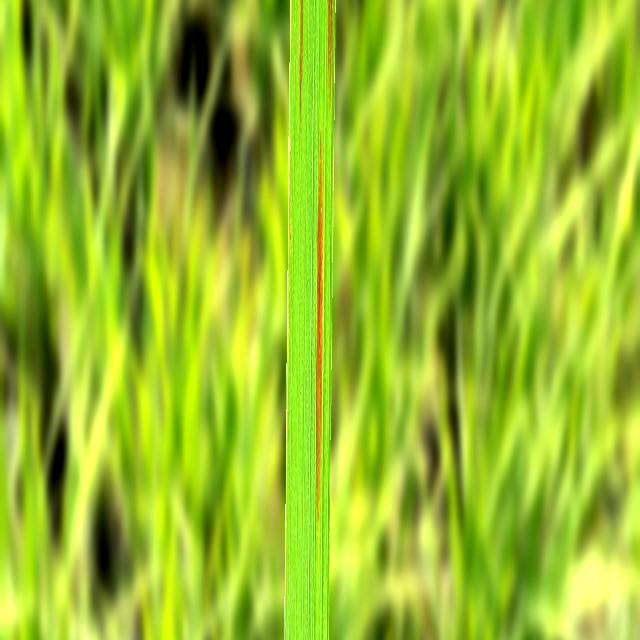NBS: (316, 134, 323, 523), (328, 0, 333, 91), (299, 0, 303, 112)
